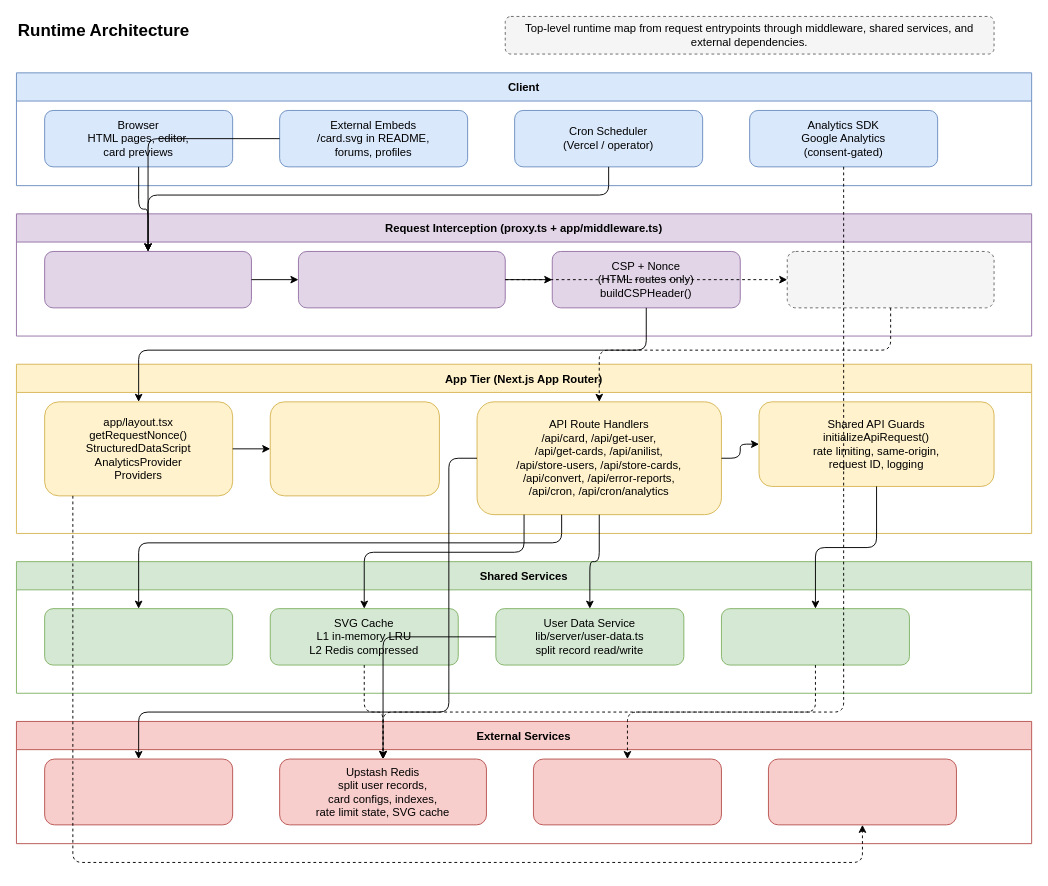
Image size: 1048x886. Some labels were removed from this diagram. Each missing label, with the centre of its shape:
"AniList GraphQL upstream profile + stats data source" goes at pixel 138 791.
"API routes skip CSP/nonce forward X-Request-Id only" goes at pixel 890 279.
"Card Generator lib/card-generator.ts SVG template dispatch" goes at pixel 138 636.
"Google Analytics consent-gated pageview and event telemetry" goes at pixel 627 791.
"middleware.ts X-Request-Id generation (all matched routes)" goes at pixel 401 279.
"Pages /, /user/[username], /examples, /contact, /privacy, /projects, /search" goes at pixel 354 448.
"proxy.ts Next.js 16 entrypoint delegates to middleware()" goes at pixel 147 279.
"Rate Limiter lib/api/rate-limit.ts Upstash Ratelimit" goes at pixel 815 636.
"Vercel Analytics + Speed Insights runtime telemetry" goes at pixel 862 791.
